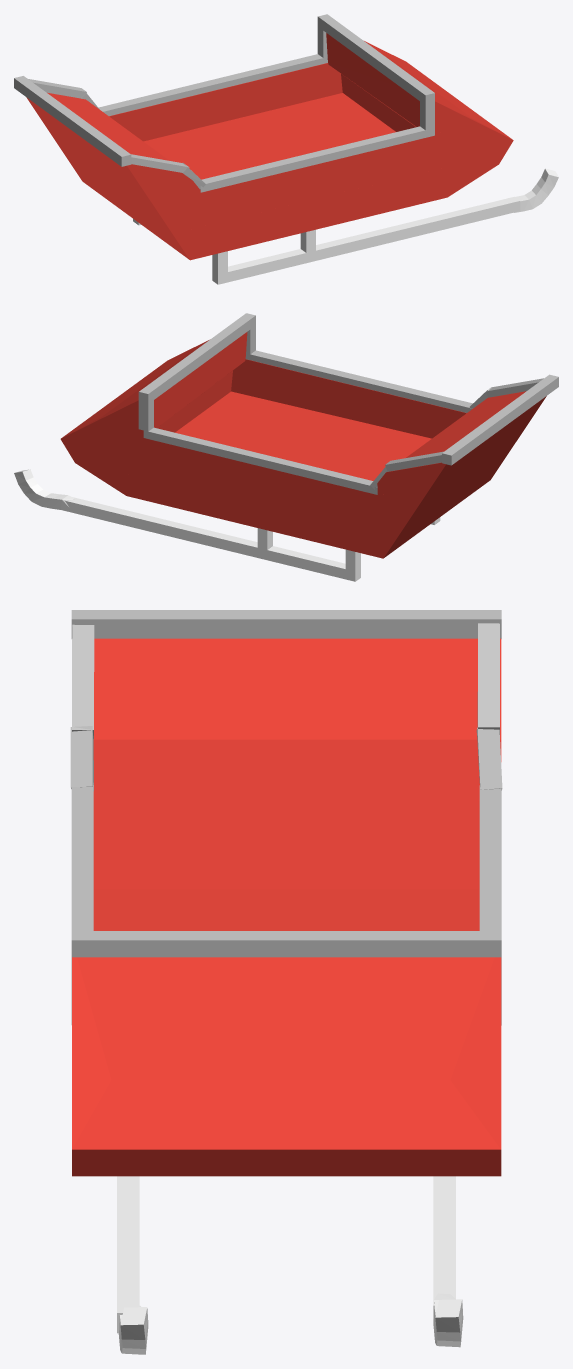
The model's file is sleigh.obj.
The picture shows the model from 3 angles, top to bottom: view 1: azimuth 30°, elevation 25°; view 2: azimuth 150°, elevation 25°; view 3: azimuth 270°, elevation 25°; orthographic projection. The views are drawn at different scales.
Parts seen in each view (by area): view 1: group1658342003, group669577714, group356321453, group734323096, group145740930, group422299549, group1577157291, group1215194958, group1806788184, group253217066, group766690878, group1603116698 (+4 smaller); view 2: group1658342003, group669577714, group356321453, group145740930, group734323096, group241285190, group1215194958, group1577157291, group1806788184, group253217066, group2058727234, group1316691700 (+3 smaller); view 3: group669577714, group356321453, group1658342003, group1806788184, group253217066, group1577157291, group1215194958, group422299549, group241285190, group1316691700, group1603116698, group2058727234 (+3 smaller).
Boxes of the visible parts, box(x1,y1,x2,y2) form: group1658342003: box(143, 93, 447, 260); group669577714: box(26, 92, 224, 259); group356321453: box(326, 33, 513, 196); group734323096: box(202, 131, 456, 220); group145740930: box(109, 63, 342, 141); group422299549: box(212, 196, 520, 284); group1577157291: box(200, 126, 434, 192); group1215194958: box(98, 54, 327, 116); group1806788184: box(14, 76, 131, 166); group253217066: box(317, 17, 434, 105); group766690878: box(508, 168, 558, 212); group1603116698: box(131, 154, 189, 172); group1658342003: box(126, 391, 431, 558); group669577714: box(347, 391, 546, 558); group356321453: box(60, 332, 247, 495); group145740930: box(129, 438, 395, 527); group734323096: box(231, 359, 466, 438); group241285190: box(62, 497, 345, 579); group1215194958: box(143, 427, 377, 494); group1577157291: box(250, 350, 472, 412); group1806788184: box(442, 374, 558, 465); group253217066: box(144, 313, 255, 403); group2058727234: box(14, 469, 74, 510); group1316691700: box(385, 451, 443, 471); group669577714: box(93, 638, 501, 889); group356321453: box(72, 957, 501, 1176); group1658342003: box(94, 889, 478, 930); group1806788184: box(71, 610, 501, 638); group253217066: box(71, 931, 479, 959); group1577157291: box(71, 783, 93, 1024); group1215194958: box(479, 785, 501, 1025); group422299549: box(117, 1176, 139, 1333); group241285190: box(433, 1176, 455, 1325); group1316691700: box(477, 623, 499, 734); group1603116698: box(72, 624, 94, 738); group2058727234: box(433, 1293, 463, 1347).
Size of the model in its own units: 1.89 by 0.6574 by 0.7835.
